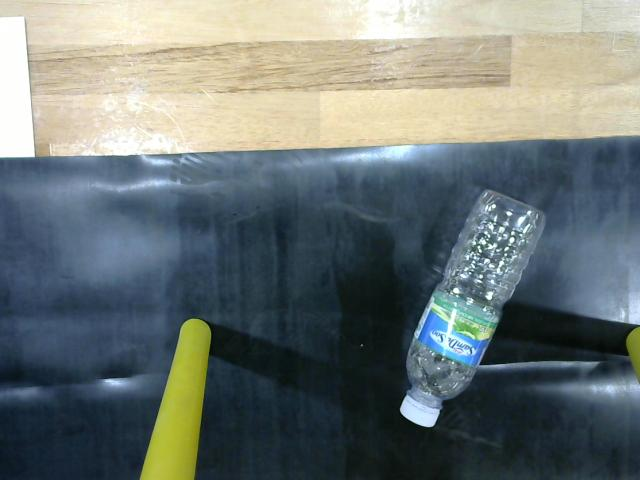bottle: (396, 176, 557, 440)
